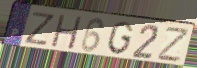2: (131, 23, 161, 61)
6: (79, 17, 107, 54)
G: (105, 20, 135, 56)
H: (49, 13, 84, 51)
Z: (156, 27, 192, 64), (23, 11, 57, 47)
